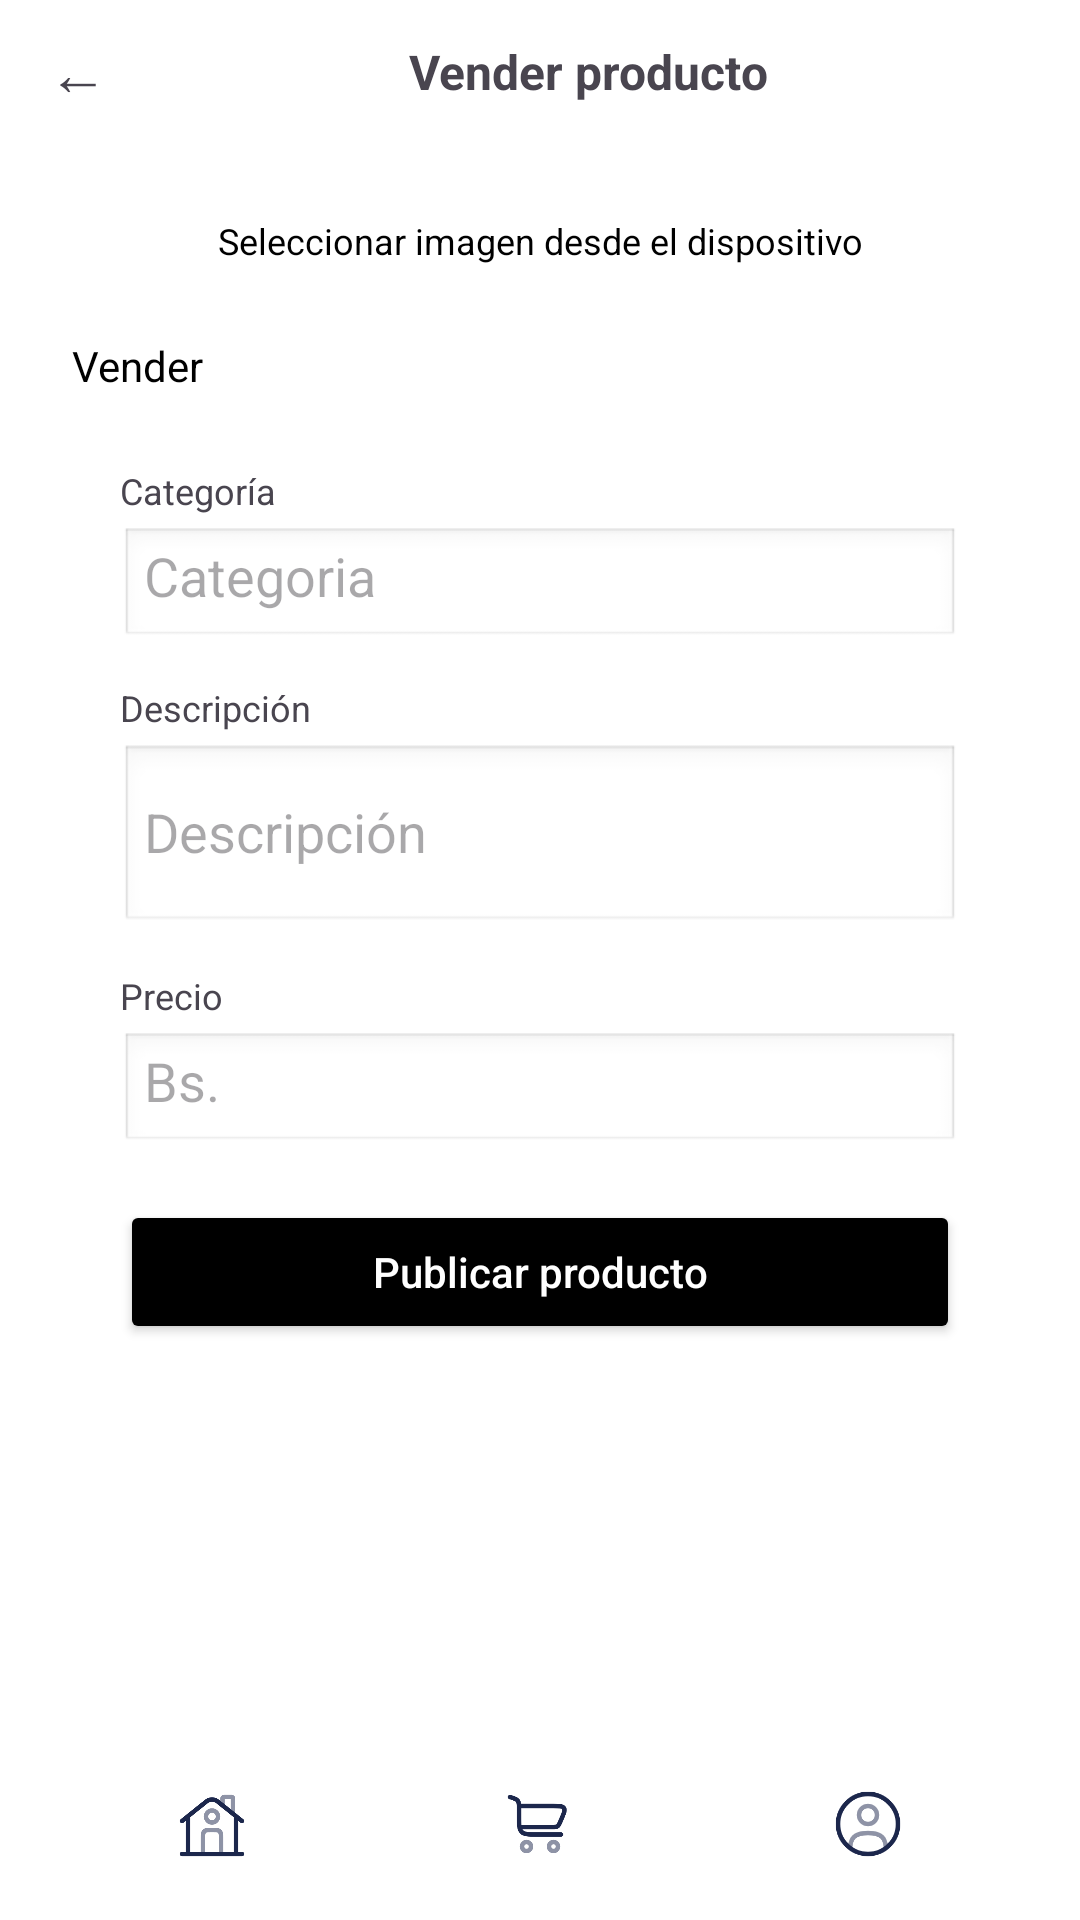

Icons on this 1080px x 1920px Android screen, each with the point to tap as (x=x, y=y):
carrito: (x=537, y=1824)
Inicio: (x=212, y=1825)
Perfil: (x=868, y=1824)
